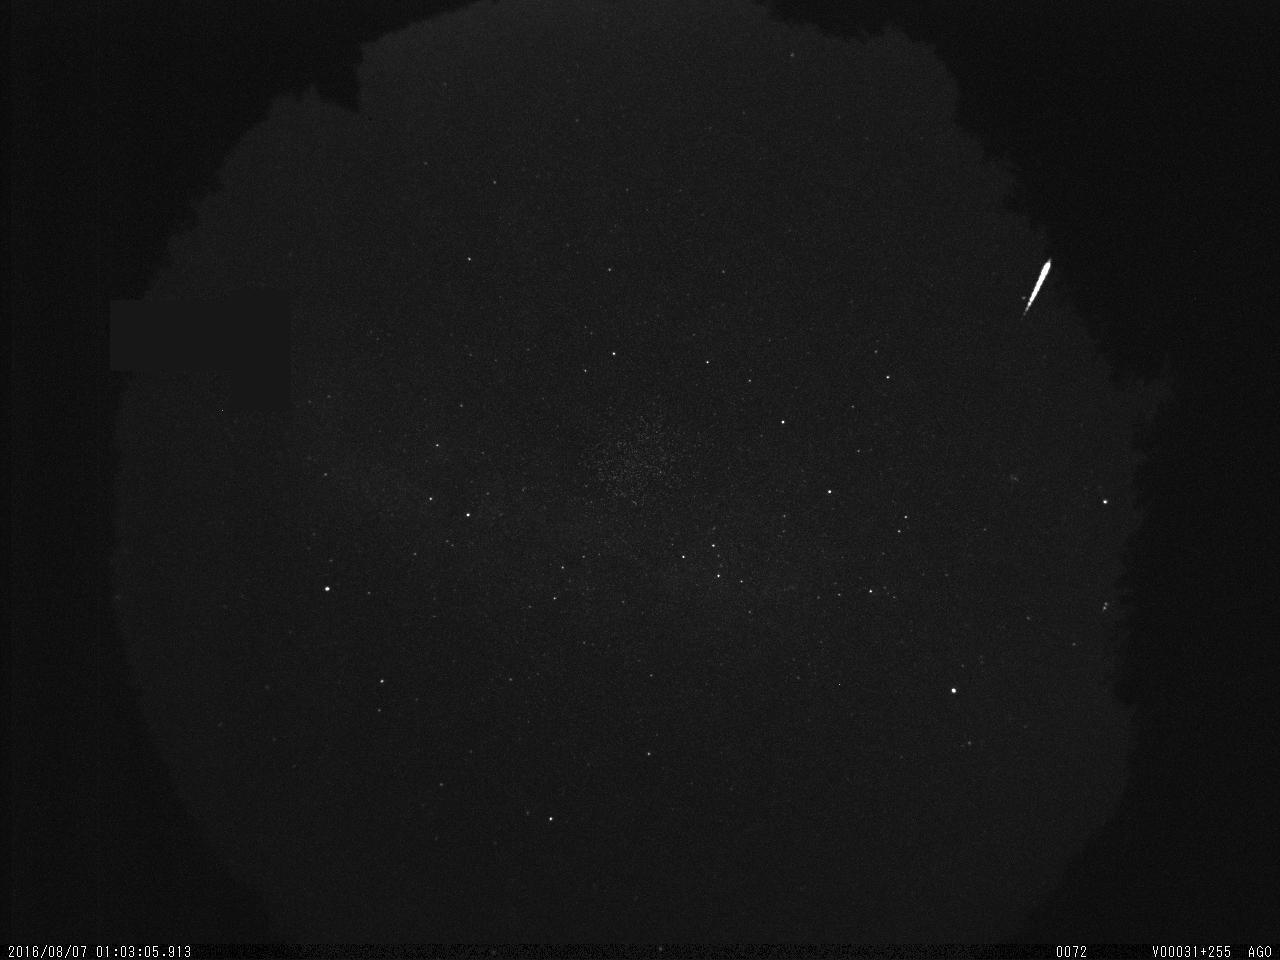Meteor: (1022, 258, 1055, 317)
